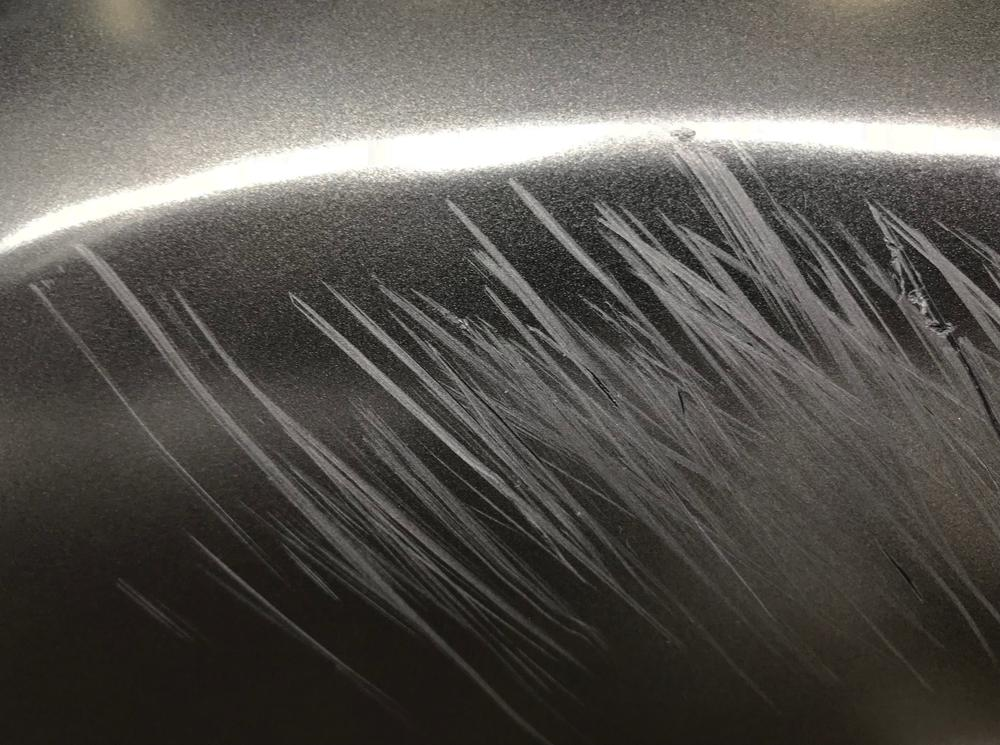scratch: (22, 128, 1000, 745)
